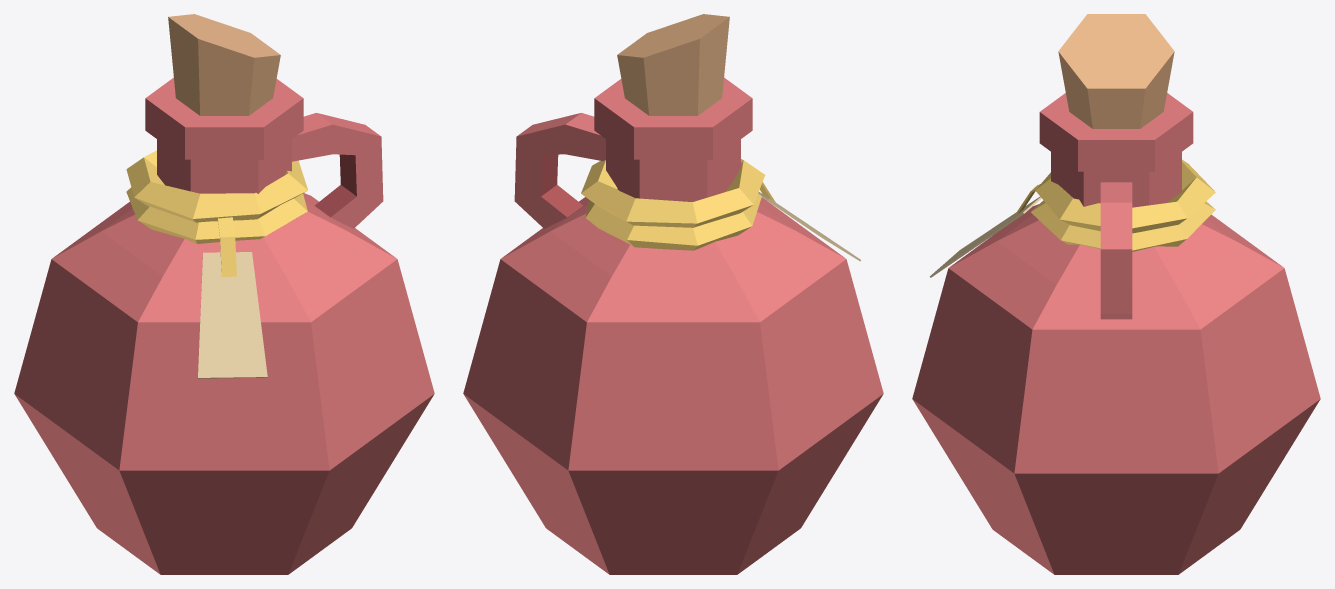
The model's file is Bottle_06.glb.
3 renders of one model, left to right at view 1: azimuth 30°, elevation 25°; view 2: azimuth 150°, elevation 25°; view 3: azimuth 270°, elevation 25°, orthographic. The views are drawn at different scales.
Parts seen in each view (by area): view 1: Bottle_06; view 2: Bottle_06; view 3: Bottle_06.
Boxes of the visible parts, x1,y1,x2,y2 form: Bottle_06: (14, 14, 434, 574); Bottle_06: (463, 14, 883, 574); Bottle_06: (912, 14, 1320, 574).
Size of what is drawn, in the model's own units: 0.2243 by 0.3469 by 0.259.
Materials: 1 (1 with a texture image).
